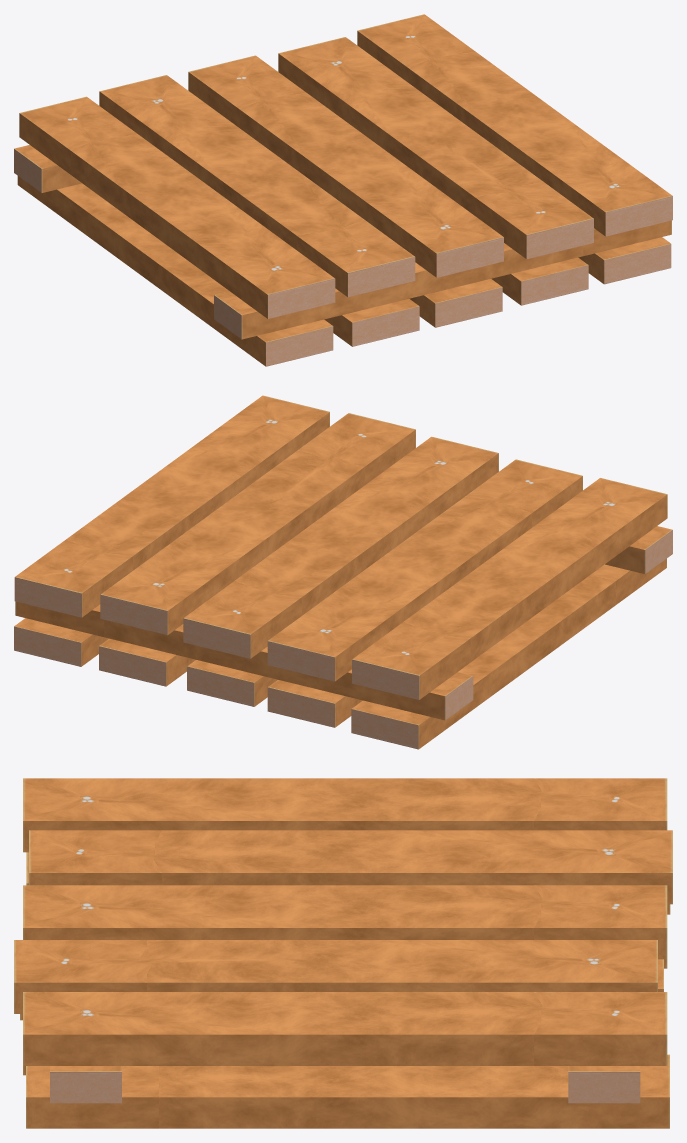
Rendered from BrokenPallet_4.fbx.
The picture shows the model from 3 angles, top to bottom: view 1: azimuth 30°, elevation 25°; view 2: azimuth 150°, elevation 25°; view 3: azimuth 270°, elevation 25°; orthographic projection. The views are drawn at different scales.
Parts seen in each view (by area): view 1: PalletCube_5, PalletCube_6; view 2: PalletCube_6, PalletCube_5; view 3: PalletCube_6, PalletCube_5.
Boxes of the visible parts, x1,y1,x2,y2 form: PalletCube_5: [120, 117, 672, 366]; PalletCube_6: [14, 14, 564, 259]; PalletCube_6: [14, 474, 521, 749]; PalletCube_5: [155, 395, 672, 673]; PalletCube_6: [303, 778, 672, 1128]; PalletCube_5: [14, 778, 402, 1128].
Bounding box in the file's own units: 0.9842 × 0.1588 × 1.01.
